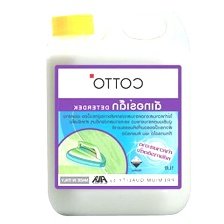cleaning_solution: (44, 3, 195, 218)
